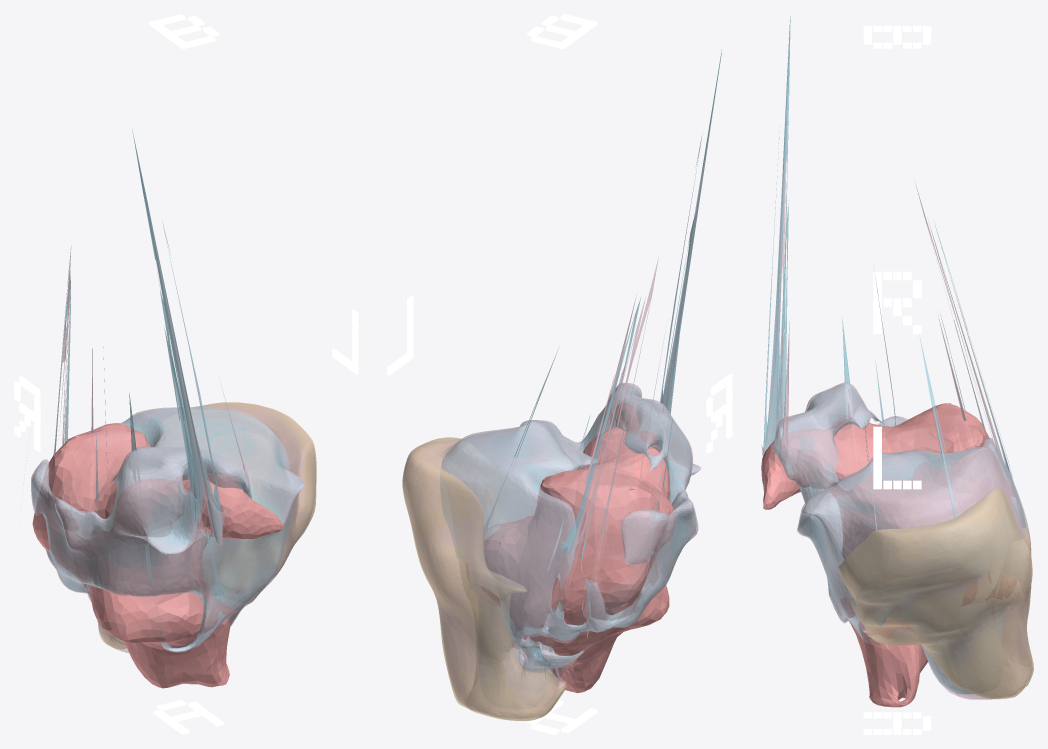
3 views of the same model, side by side, from view 1: azimuth 30°, elevation 25°; view 2: azimuth 150°, elevation 25°; view 3: azimuth 270°, elevation 25° (orthographic).
Parts seen in each view (by area): view 1: prostate_gland, transition_zone, lesion_01, peripheral_zone, pv_ar_marker_B, pv_ar_marker_R, pv_ar_marker_A, pv_ar_marker_L; view 2: prostate_gland, transition_zone, lesion_01, peripheral_zone, pv_ar_marker_B, pv_ar_marker_R, pv_ar_marker_A, pv_ar_marker_L; view 3: prostate_gland, peripheral_zone, transition_zone, lesion_01, pv_ar_marker_R, pv_ar_marker_B, pv_ar_marker_L, pv_ar_marker_A.
Part boxes in pixels (box(x1,y1,x2,y2)): prostate_gland: box(31, 211, 315, 652); transition_zone: box(32, 128, 303, 651); lesion_01: box(32, 423, 283, 688); peripheral_zone: box(98, 402, 316, 649); pv_ar_marker_B: box(148, 14, 219, 49); pv_ar_marker_R: box(14, 376, 40, 451); pv_ar_marker_A: box(153, 699, 224, 734); pv_ar_marker_L: box(332, 309, 358, 374); prostate_gland: box(403, 122, 710, 718); transition_zone: box(440, 50, 721, 679); lesion_01: box(467, 403, 675, 693); peripheral_zone: box(402, 437, 566, 720); pv_ar_marker_B: box(527, 14, 597, 49); pv_ar_marker_R: box(706, 373, 732, 453); pv_ar_marker_A: box(527, 700, 597, 734); pv_ar_marker_L: box(387, 295, 413, 375); prostate_gland: box(761, 126, 1031, 699); peripheral_zone: box(838, 487, 1033, 699); transition_zone: box(763, 16, 1026, 693); lesion_01: box(761, 403, 1021, 707); pv_ar_marker_R: box(873, 271, 921, 334); pv_ar_marker_B: box(863, 26, 931, 48); pv_ar_marker_L: box(873, 426, 921, 489); pv_ar_marker_A: box(863, 712, 931, 734).
Size of the model in its own units: 0.0643 by 0.132 by 0.0474.
